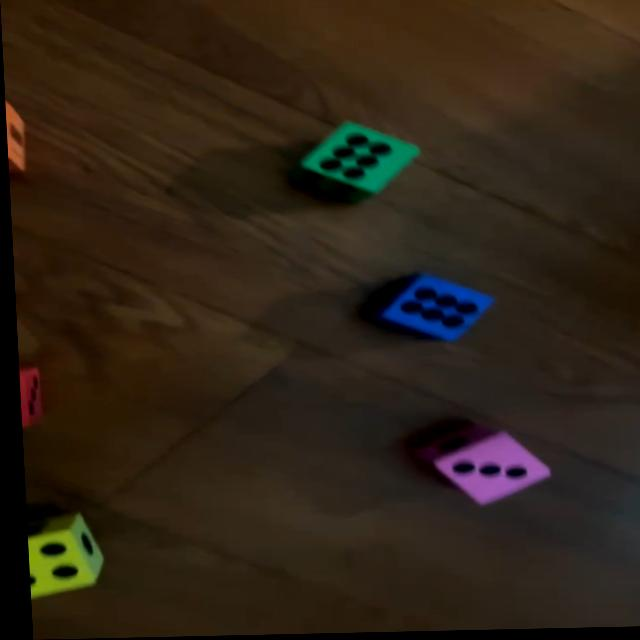cube: (293, 123, 420, 203), (365, 274, 497, 345), (15, 366, 39, 427)
